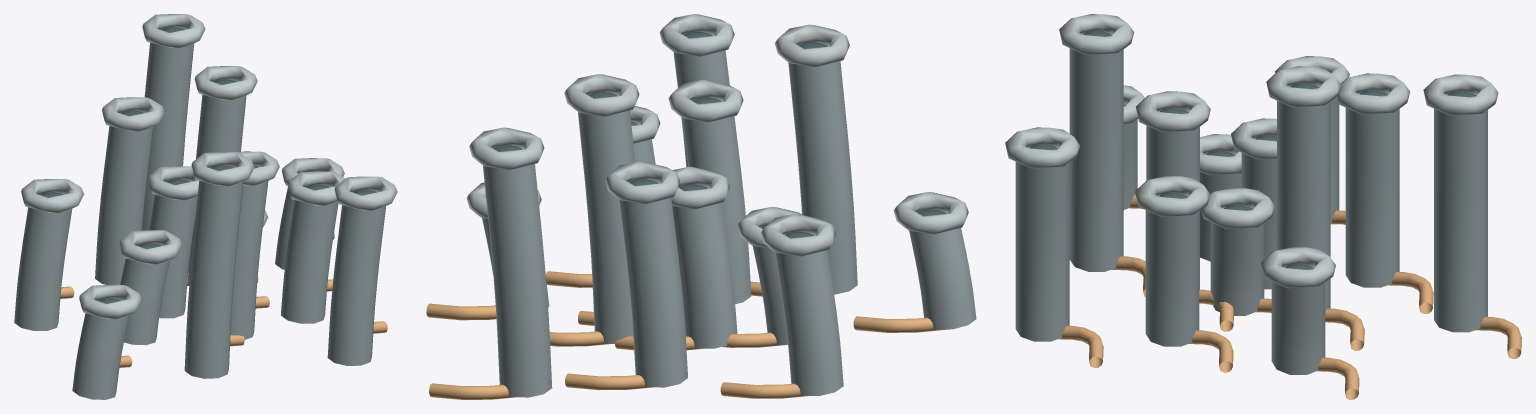
Rendered from bio_thermal_colony_16_far.glb.
The picture shows the model from 3 angles, left to right: view 1: azimuth 30°, elevation 25°; view 2: azimuth 150°, elevation 25°; view 3: azimuth 270°, elevation 25°; orthographic projection. The views are drawn at different scales.
Visible parts, largest first — view 1: Chimney biofilm.007, Chimney biofilm.010, Chimney biofilm.006, Chimney biofilm.005, Chimney biofilm.009, Chimney biofilm.011, Chimney biofilm.002, Chimney biofilm.012, Chimney biofilm.001, Chimney biofilm.004, Chimney biofilm.003, Open vent rim.010 (+12 smaller); view 2: Chimney biofilm.011, Chimney biofilm.007, Chimney biofilm.006, Chimney biofilm.003, Chimney biofilm.009, Chimney biofilm.001, Chimney biofilm.002, Chimney biofilm.012, Open vent rim.003, Open vent rim.011, Open vent rim.006, Open vent rim.012 (+18 smaller); view 3: Chimney biofilm.011, Chimney biofilm.007, Chimney biofilm.006, Chimney biofilm.010, Chimney biofilm.003, Chimney biofilm.005, Chimney biofilm.008, Chimney biofilm, Chimney biofilm.002, Open vent rim.010, Open vent rim.011, Open vent rim.007 (+22 smaller).
Boxes of the visible parts, box(x1,y1,x2,y2) form: Chimney biofilm.007: box(184, 181, 243, 378); Chimney biofilm.010: box(327, 205, 385, 365); Chimney biofilm.006: box(95, 126, 153, 284); Chimney biofilm.005: box(281, 200, 338, 323); Chimney biofilm.009: box(14, 207, 72, 330); Chimney biofilm.011: box(142, 42, 194, 230); Chimney biofilm.002: box(230, 181, 268, 339); Chimney biofilm.012: box(72, 313, 129, 399); Chimney biofilm.001: box(149, 194, 197, 318); Chimney biofilm.004: box(120, 258, 169, 345); Chimney biofilm.003: box(187, 94, 246, 285); Open vent rim.010: box(334, 176, 397, 210); Chimney biofilm.011: box(483, 164, 552, 397); Chimney biofilm.007: box(788, 45, 857, 294); Chimney biofilm.006: box(619, 198, 687, 387); Chimney biofilm.003: box(578, 110, 635, 343); Chimney biofilm.009: box(775, 234, 843, 395); Chimney biofilm.001: box(672, 187, 737, 348); Chimney biofilm.002: box(682, 116, 751, 303); Chimney biofilm.012: box(909, 212, 976, 329); Open vent rim.003: box(564, 74, 639, 116); Open vent rim.011: box(469, 127, 544, 169); Open vent rim.006: box(605, 161, 680, 203); Open vent rim.012: box(893, 192, 968, 234); Chimney biofilm.011: box(1434, 95, 1487, 332); Chimney biofilm.007: box(1069, 34, 1123, 271); Chimney biofilm.006: box(1345, 94, 1399, 287); Chimney biofilm.010: box(1015, 148, 1069, 341); Chimney biofilm.003: box(1277, 87, 1330, 312); Chimney biofilm.005: box(1145, 196, 1199, 346); Chimney biofilm.008: box(1271, 267, 1325, 374); Chimney biofilm: box(1210, 208, 1264, 315); Chimney biofilm.002: box(1146, 111, 1199, 289); Open vent rim.010: box(1005, 127, 1080, 168); Open vent rim.011: box(1423, 74, 1498, 115); Open vent rim.007: box(1059, 14, 1134, 55).
Size of the model in its own units: 1.82 by 1.03 by 1.92.
